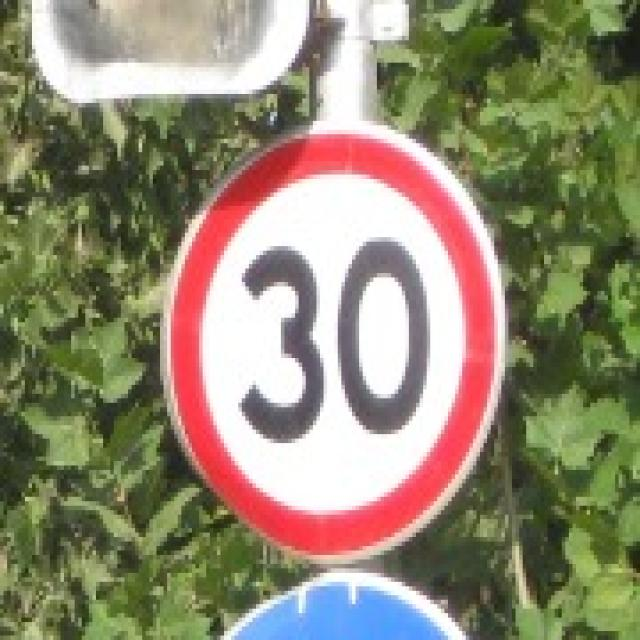Speed Limit -30-: (235, 241, 435, 448)
